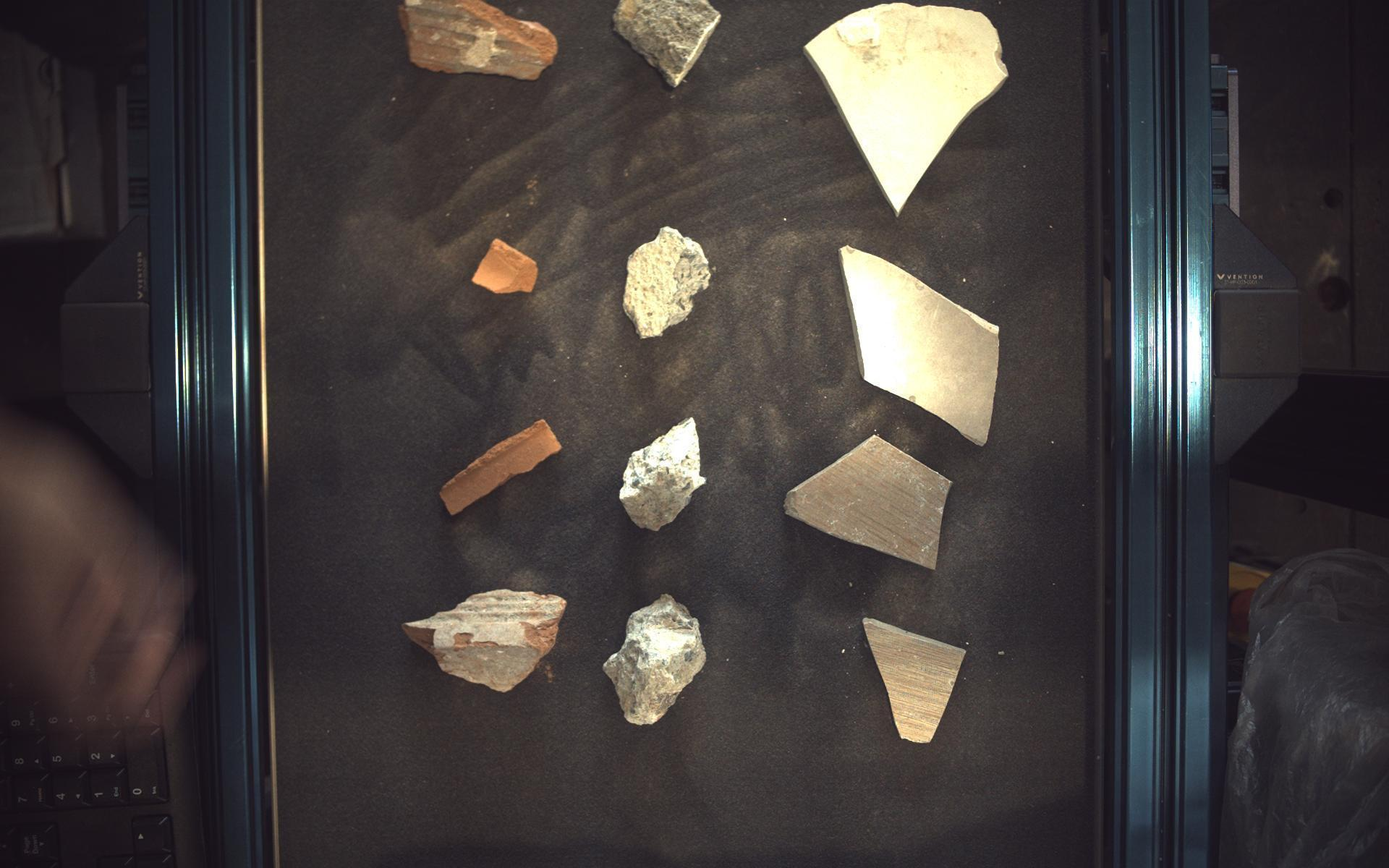brick: (402, 591, 566, 693), (398, 1, 558, 78), (441, 420, 561, 515), (472, 237, 538, 293)
concrete: (604, 595, 707, 726), (620, 417, 707, 531), (624, 226, 711, 338), (614, 1, 721, 86)
tile: (807, 1, 1010, 214), (841, 246, 1001, 445), (786, 435, 953, 570), (865, 618, 968, 744)
